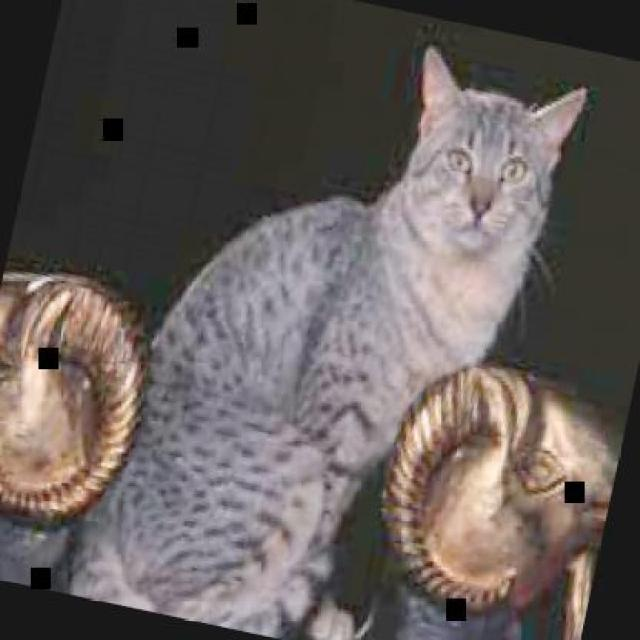cat: (63, 0, 587, 638)
